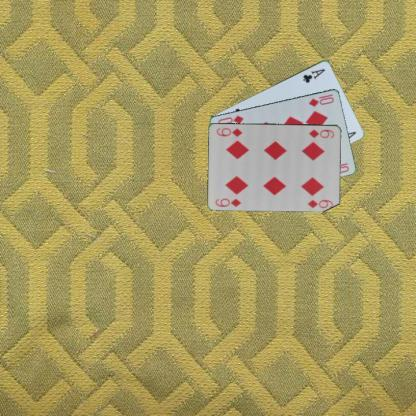10d: (306, 92, 335, 108)
6d: (306, 127, 335, 139), (213, 196, 242, 208)
Ac: (300, 66, 326, 84)
